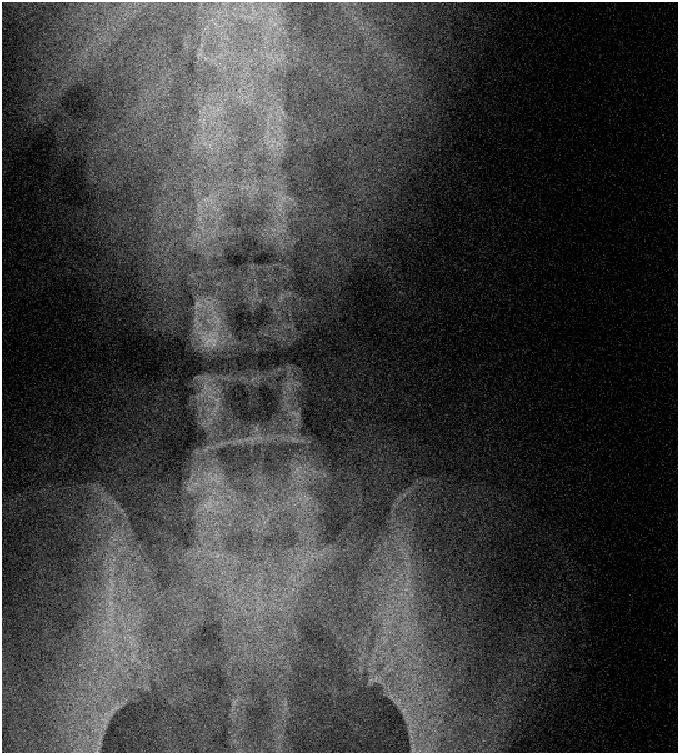lumbar scoliosis: (181, 156, 326, 547)
